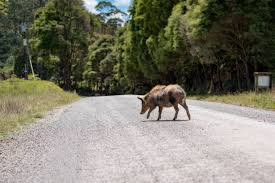boar: (136, 82, 191, 124)
